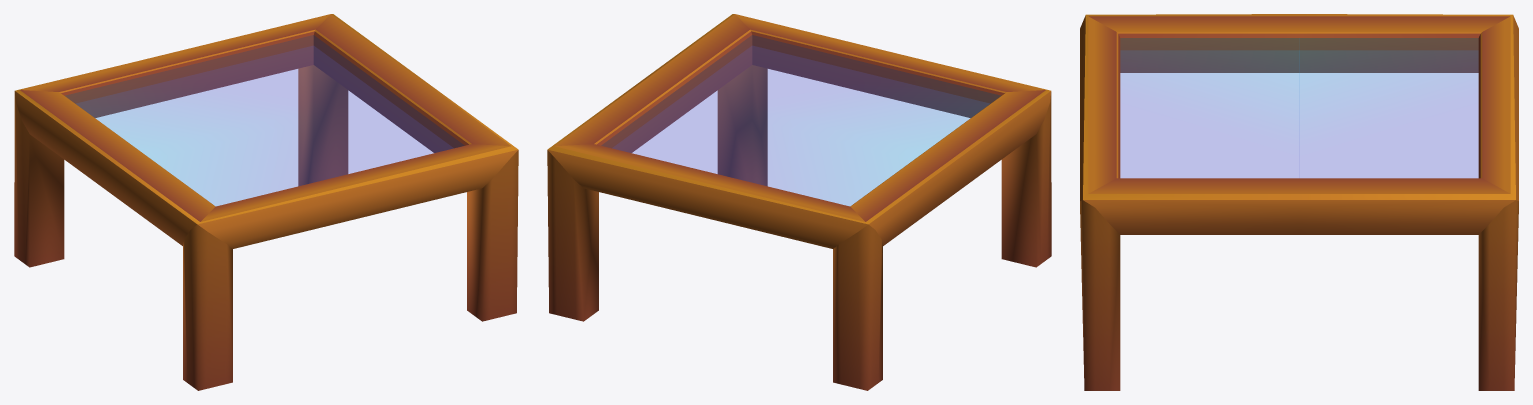
File: CoffeeTableLarge.fbx
3 views of the same model, side by side, from view 1: azimuth 30°, elevation 25°; view 2: azimuth 150°, elevation 25°; view 3: azimuth 270°, elevation 25° (orthographic). The views are drawn at different scales.
Visible parts, largest first — view 1: Tablev3; view 2: Tablev3; view 3: Tablev3.
Boxes of the visible parts, bbox=[...] form: Tablev3: bbox=[14, 14, 518, 390]; Tablev3: bbox=[547, 14, 1051, 390]; Tablev3: bbox=[1080, 14, 1518, 390].
Bounding box in the file's own units: 4.08 × 2 × 4.08.
